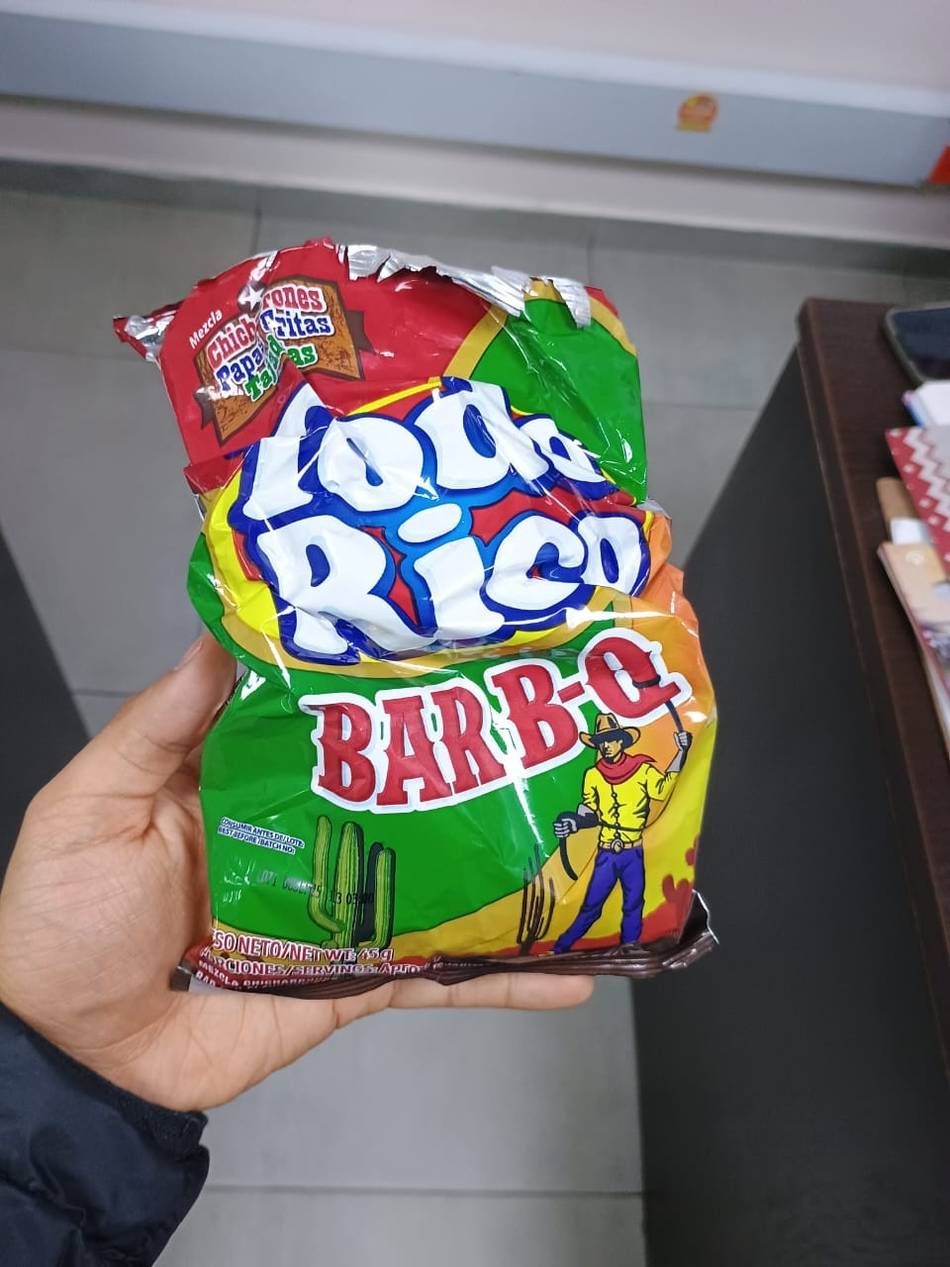Ordinario: (115, 239, 717, 998)
